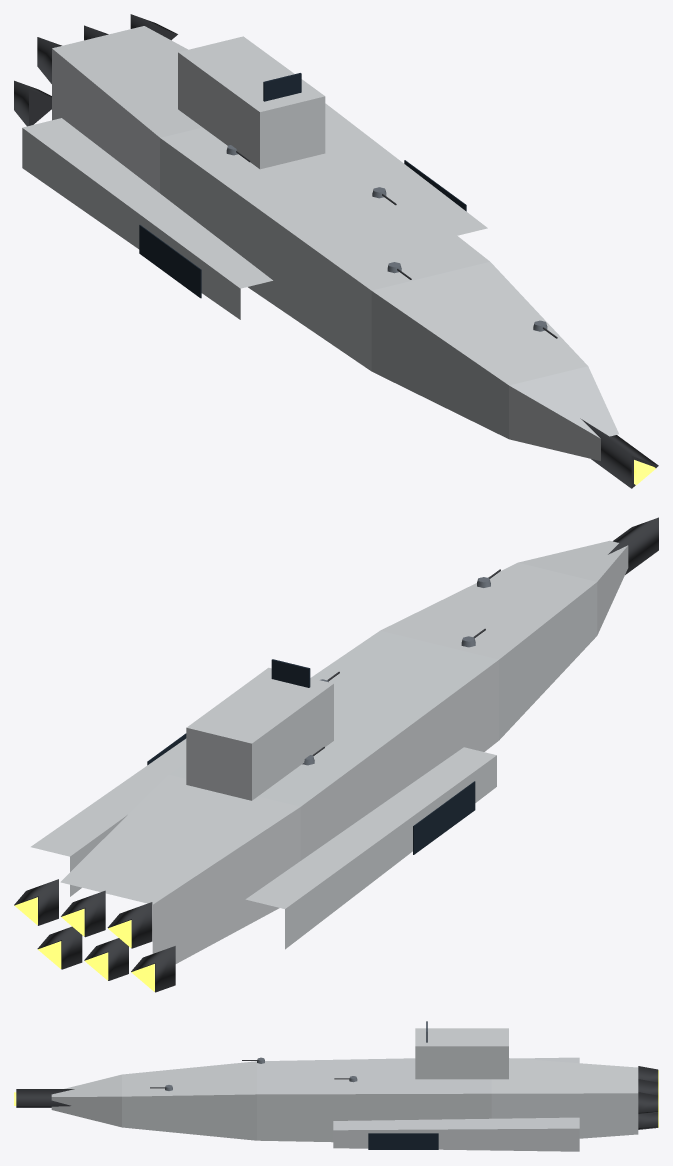
Rendered from space_ship_battleship_mk1_lod2.glb.
The picture shows the model from 3 angles, top to bottom: view 1: azimuth 30°, elevation 25°; view 2: azimuth 150°, elevation 25°; view 3: azimuth 270°, elevation 25°; orthographic projection. The views are drawn at different scales.
Visible parts, largest first — view 1: body, main_gun, hangar_r, engine_0; view 2: body, hangar_r, main_gun, engine_1, engine_3, engine_0, engine_5, engine_4, engine_2; view 3: body, hangar_l, main_gun, engine_5, engine_4, engine_1, engine_3.
Part boxes in pixels (bbox=[...]): body: bbox=[22, 26, 618, 460]; main_gun: bbox=[580, 418, 658, 488]; hangar_r: bbox=[139, 225, 201, 298]; engine_0: bbox=[14, 80, 51, 126]; body: bbox=[31, 540, 628, 963]; hangar_r: bbox=[413, 781, 475, 854]; main_gun: bbox=[608, 517, 658, 574]; engine_1: bbox=[107, 902, 152, 948]; engine_3: bbox=[61, 890, 105, 937]; engine_0: bbox=[131, 946, 175, 992]; engine_5: bbox=[14, 879, 58, 925]; engine_4: bbox=[37, 926, 82, 969]; engine_2: bbox=[84, 938, 128, 980]; body: bbox=[51, 1021, 638, 1151]; hangar_l: bbox=[368, 1133, 438, 1149]; main_gun: bbox=[14, 1089, 74, 1107]; engine_5: bbox=[638, 1092, 658, 1114]; engine_4: bbox=[638, 1112, 658, 1129]; engine_1: bbox=[638, 1066, 658, 1083]; engine_3: bbox=[638, 1079, 658, 1096].
Bounding box in the file's own units: 28.5 × 19.18 × 104.
